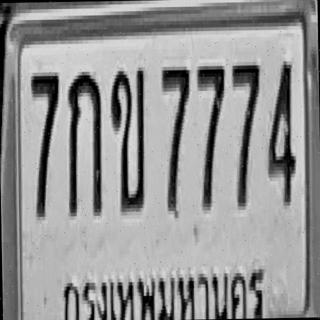A01: (65, 68, 103, 216)
A02: (109, 65, 146, 214)
N04: (265, 58, 296, 206)
N07: (160, 63, 191, 214), (30, 70, 61, 218), (196, 62, 227, 210), (231, 60, 262, 208)
P04: (57, 252, 278, 320)
